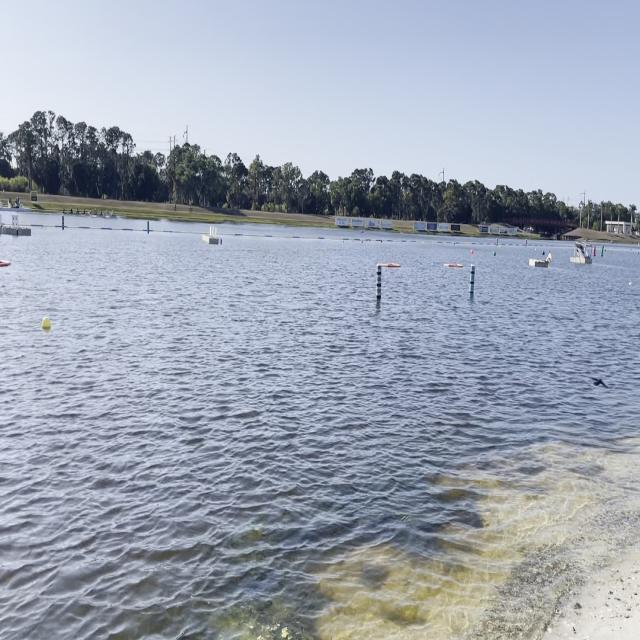buoy: (39, 313, 54, 335), (492, 250, 497, 258), (470, 248, 475, 255)
